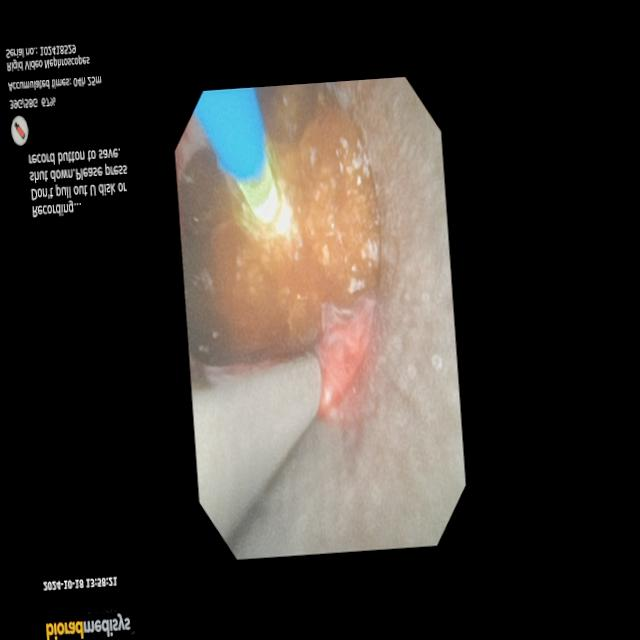laser-fibre: (238, 155, 279, 223)
laser_dot: (275, 199, 291, 234)
stone-new: (181, 108, 379, 364)
